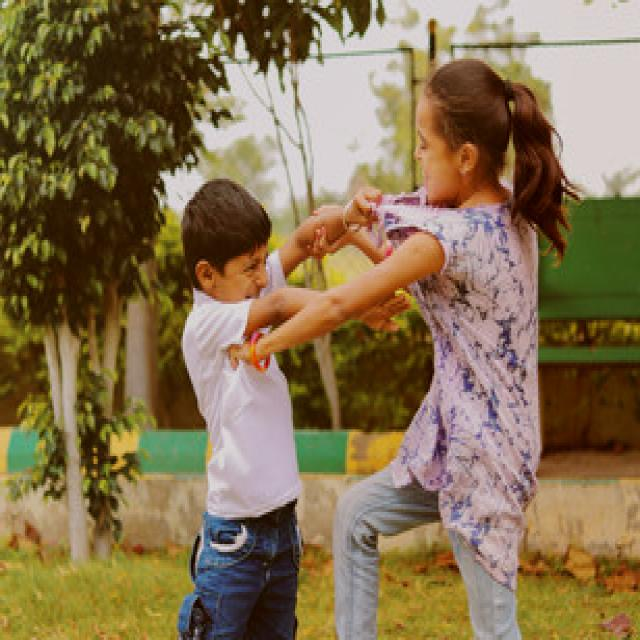fight: (179, 57, 572, 476)
